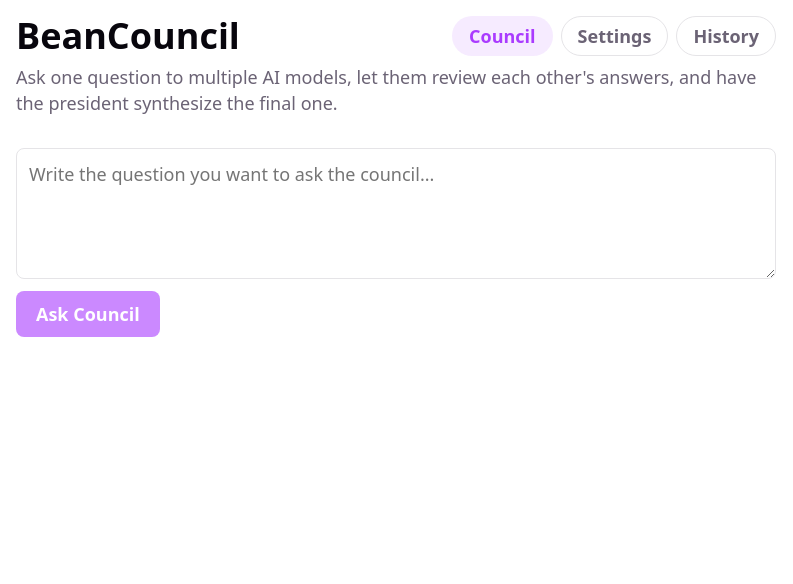
Scenario: App › "+ New conversation" resets turns and threadId
Expected: the text "Ask one question to multiple AI models" is shown, [16,65,756,115]
Type "question" into the text box with placeholder "Write the question you want to ask the council..." at (396, 214), box [16,148,776,279]
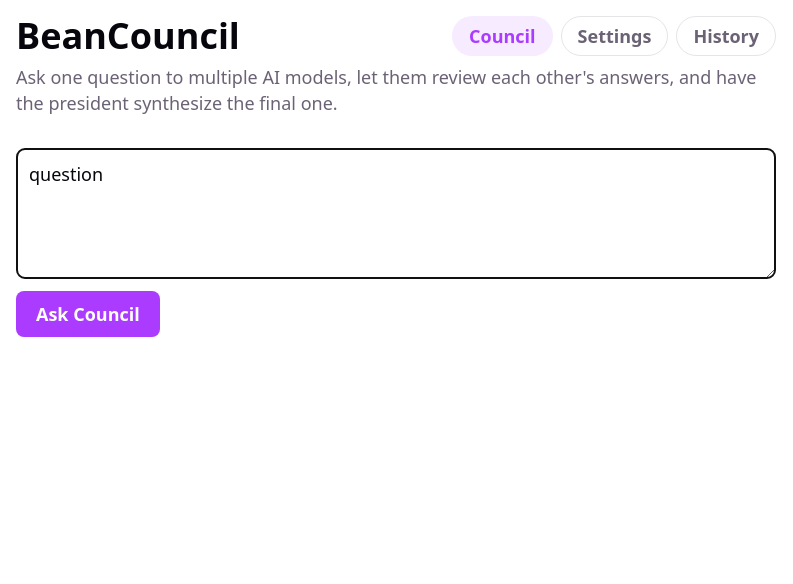
Click the button "Ask Council" at (88, 314), box [16,291,160,337]
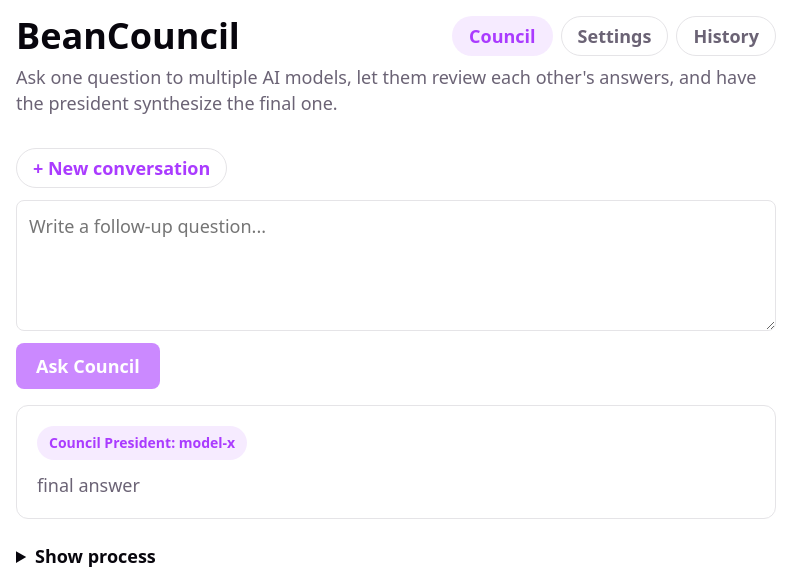
Now the text "Council President: model-x" is shown, box [37,426,247,460]
Click the button "+ New conversation" at (122, 168), box [16,148,227,188]
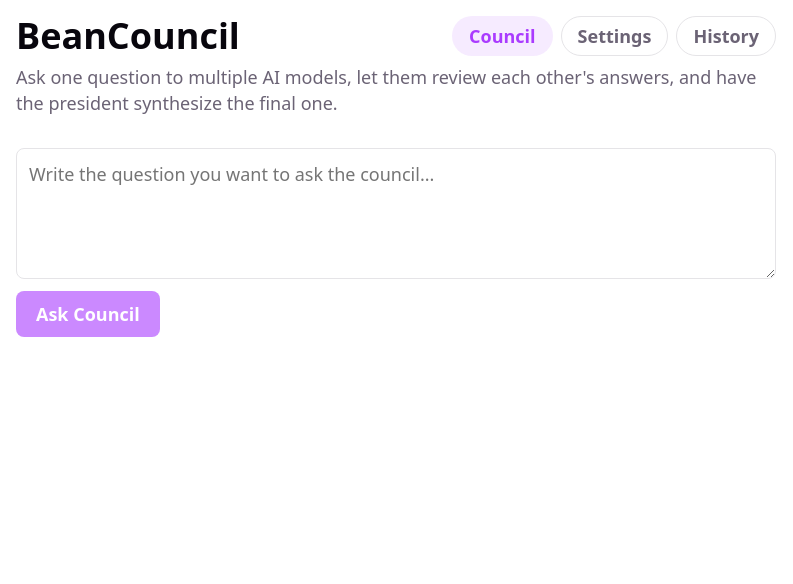
Now the text "Council President: model-x" is gone
Now the button "+ New conversation" is gone
